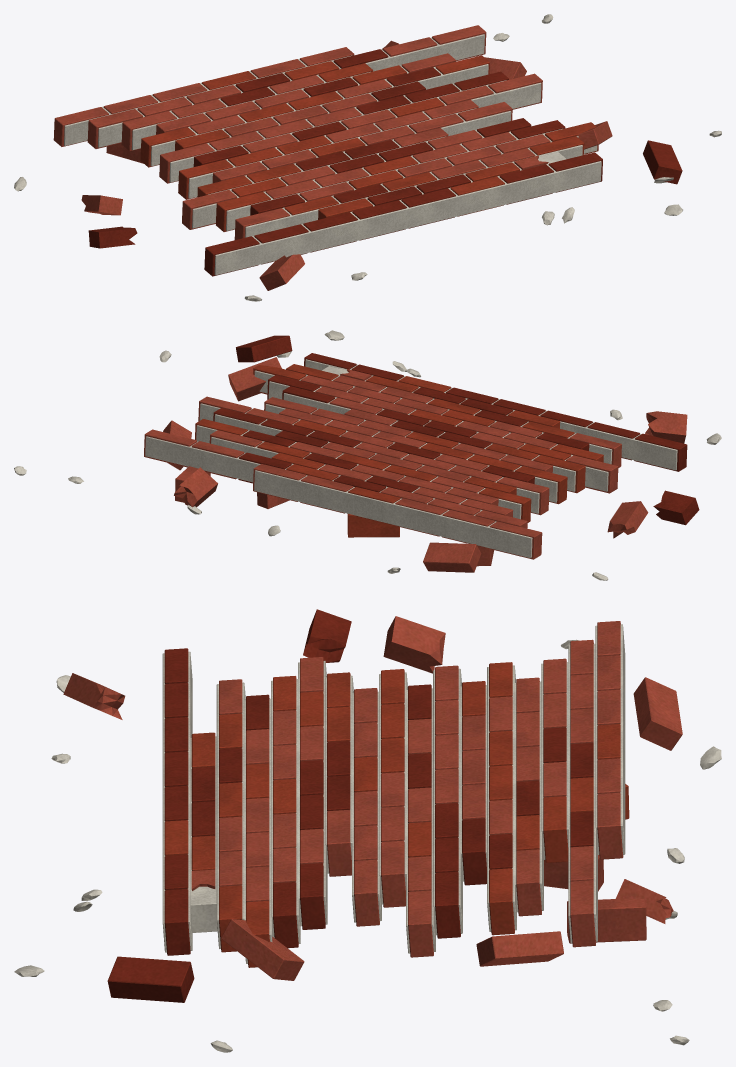
File: fallen-brick-wall-chunk.glb
3 views of the same model, one above another, from view 1: azimuth 30°, elevation 25°; view 2: azimuth 150°, elevation 25°; view 3: azimuth 270°, elevation 25° (orthographic). The views are drawn at different scales.
Parts seen in each view (by area): view 1: Fallen_Brick_Wall_Chunk; view 2: Fallen_Brick_Wall_Chunk; view 3: Fallen_Brick_Wall_Chunk.
Boxes of the visible parts, box(x1,y1,x2,y2) form: Fallen_Brick_Wall_Chunk: box(14, 14, 721, 301); Fallen_Brick_Wall_Chunk: box(14, 330, 721, 580); Fallen_Brick_Wall_Chunk: box(14, 609, 721, 1052).
Bounding box in the file's own units: 2.71 × 0.1992 × 1.96.
Materials: 4 (4 with a texture image).
